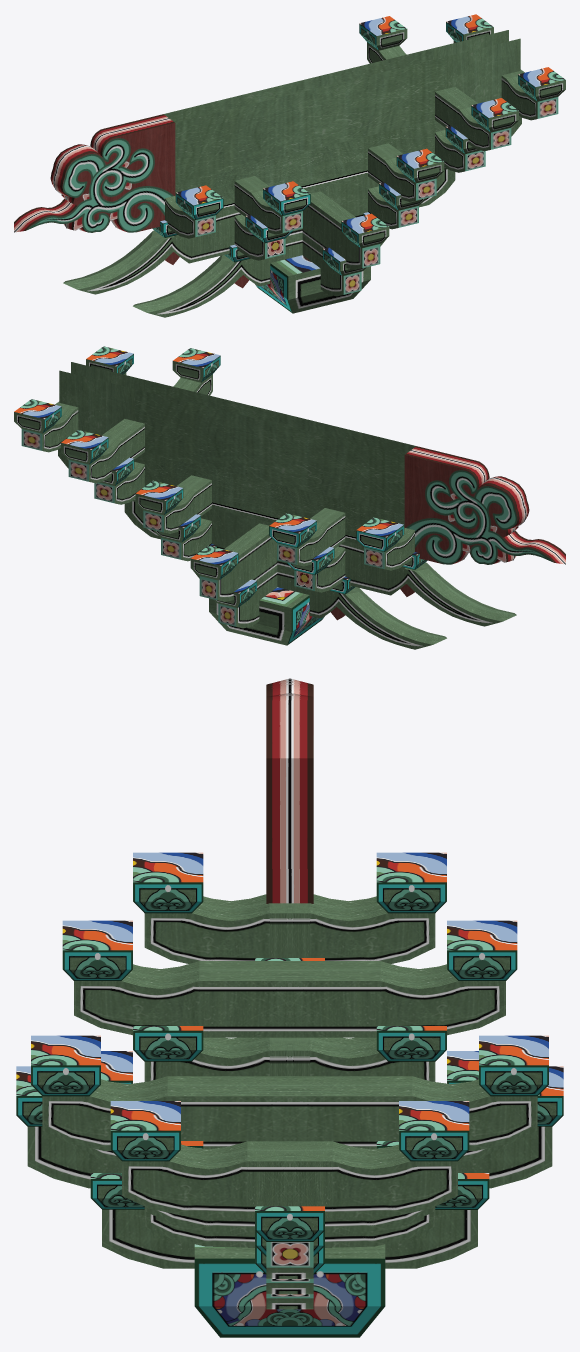
The model's file is SM_Gongpo02D.fbx.
3 renders of one model, top to bottom at view 1: azimuth 30°, elevation 25°; view 2: azimuth 150°, elevation 25°; view 3: azimuth 270°, elevation 25°, orthographic. The views are drawn at different scales.
Visible parts, largest first — view 1: SM_Gongpo02D; view 2: SM_Gongpo02D; view 3: SM_Gongpo02D.
Boxes of the visible parts, x1,y1,x2,y2 form: SM_Gongpo02D: (14,14,565,317); SM_Gongpo02D: (14,346,565,649); SM_Gongpo02D: (16,678,563,1337).
Bounding box in the file's own units: 270 × 126 × 106.
